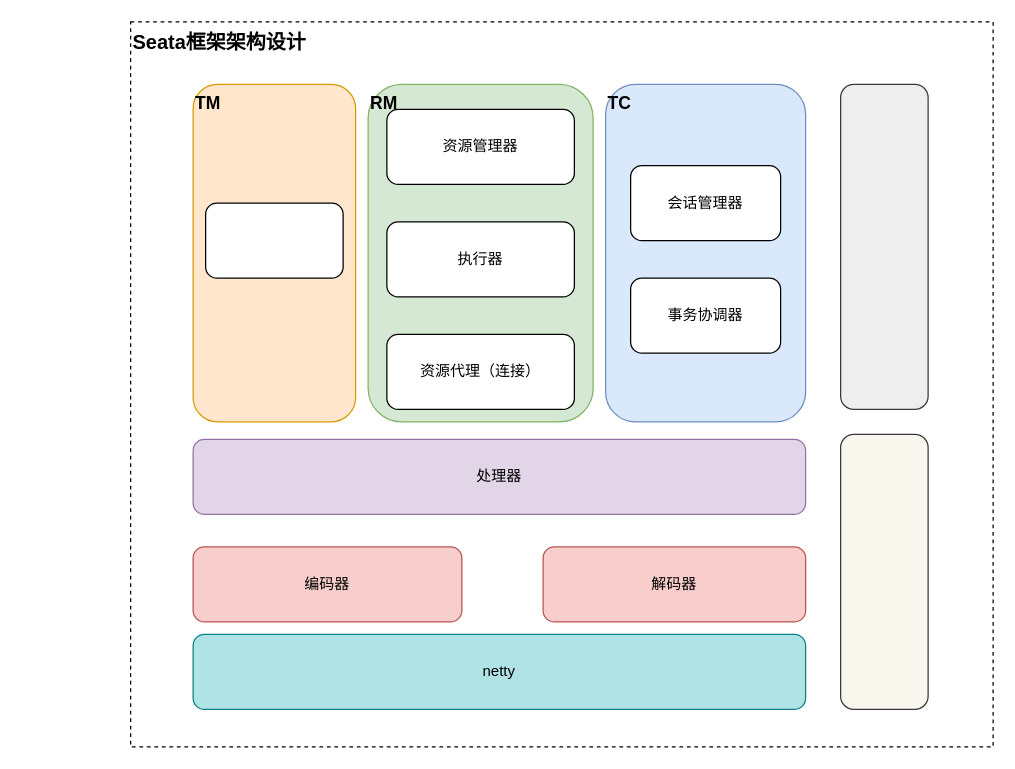
The diagram is 1015 pixels wide and 769 high, and some of its shapes have lost their labels. Here are the shapes that lost their labels. From the top down, the centre of each, then its label:
(x=273, y=240): 全局事务管理器
(x=883, y=246): 配置中心
(x=883, y=571): 注册中心
